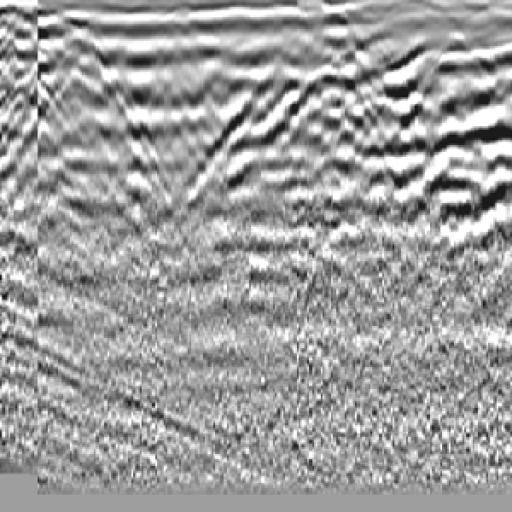non-metallic: (343, 37, 512, 236), (166, 45, 358, 196)
